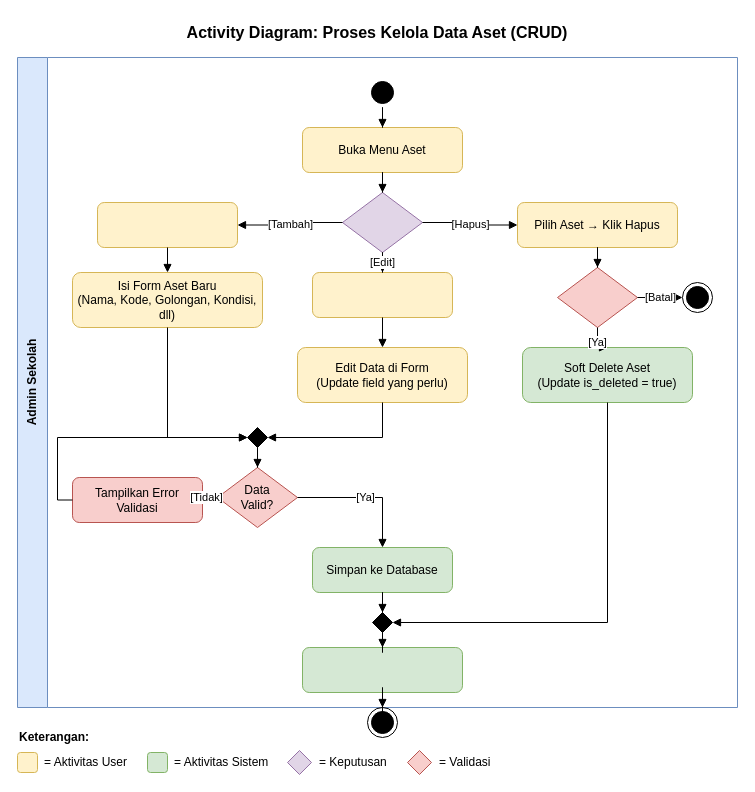
The diagram is 755 pixels wide and 792 high, and some of its shapes have lost their labels. The centre of each missing label's shape, as x and y in pixels:
"Klik Tambah Baru" goes at point 167,225.
"Konfirmasi Hapus?" goes at point 597,297.
"Pilih Aksi?" goes at point 382,222.
"Pilih Aset → Klik Edit" goes at point 382,295.
"Tampilkan Notifikasi Sukses" goes at point 382,669.
